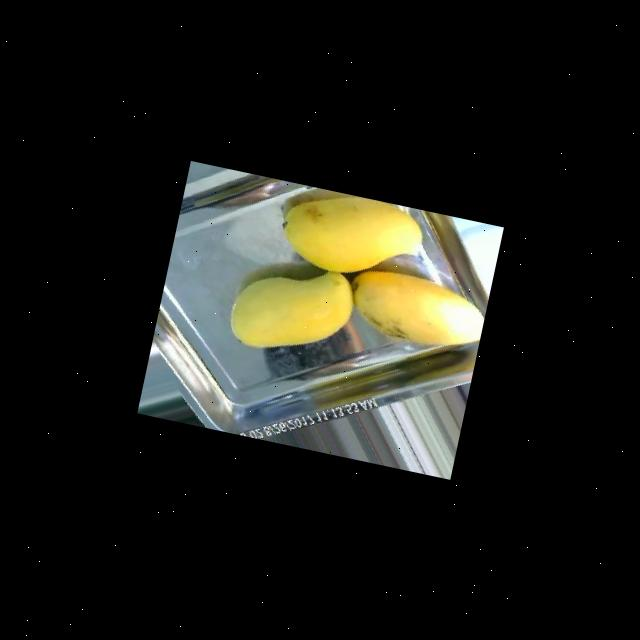Mango: (274, 182, 428, 290), (224, 252, 358, 366), (341, 264, 488, 356)
